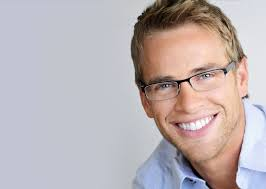g.y: (189, 68, 227, 93)
